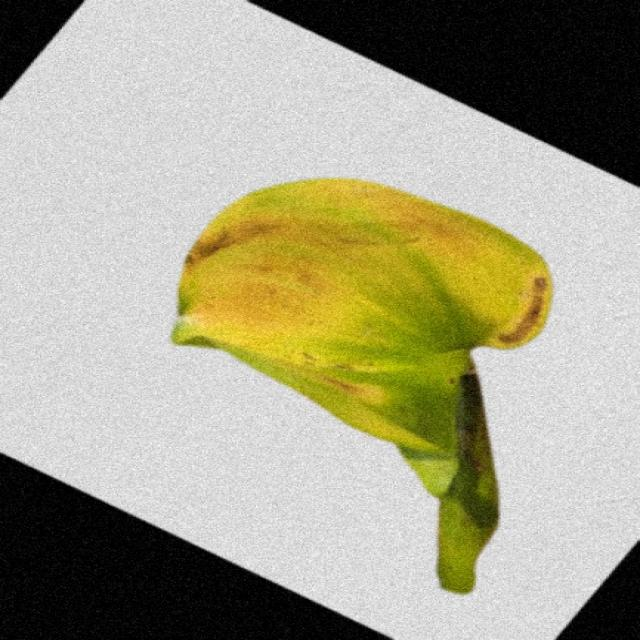daun berpenyakit kuning: (172, 179, 551, 593)
